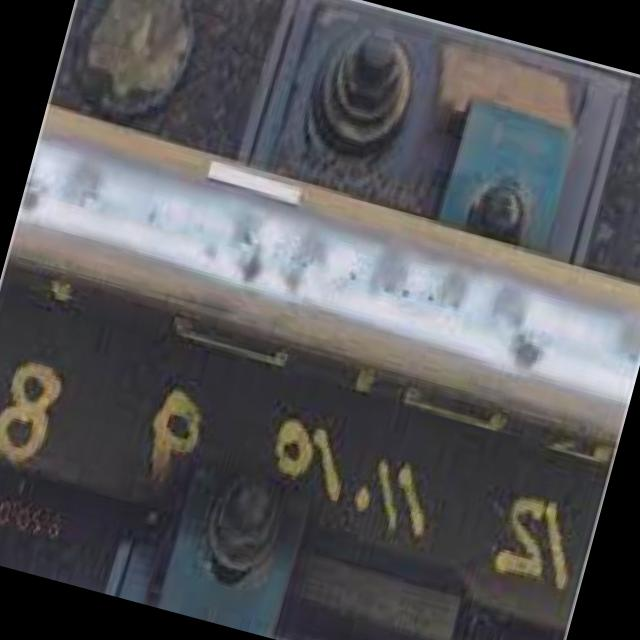defective: (0, 123, 640, 455)
